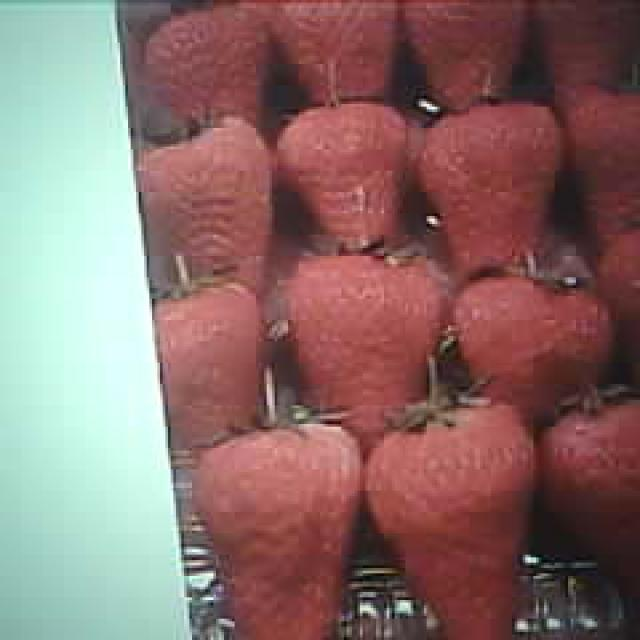strawberry: (368, 413, 534, 640), (197, 424, 360, 640), (288, 256, 438, 438), (419, 102, 558, 270), (456, 277, 612, 423), (143, 126, 270, 290), (281, 102, 410, 248)
